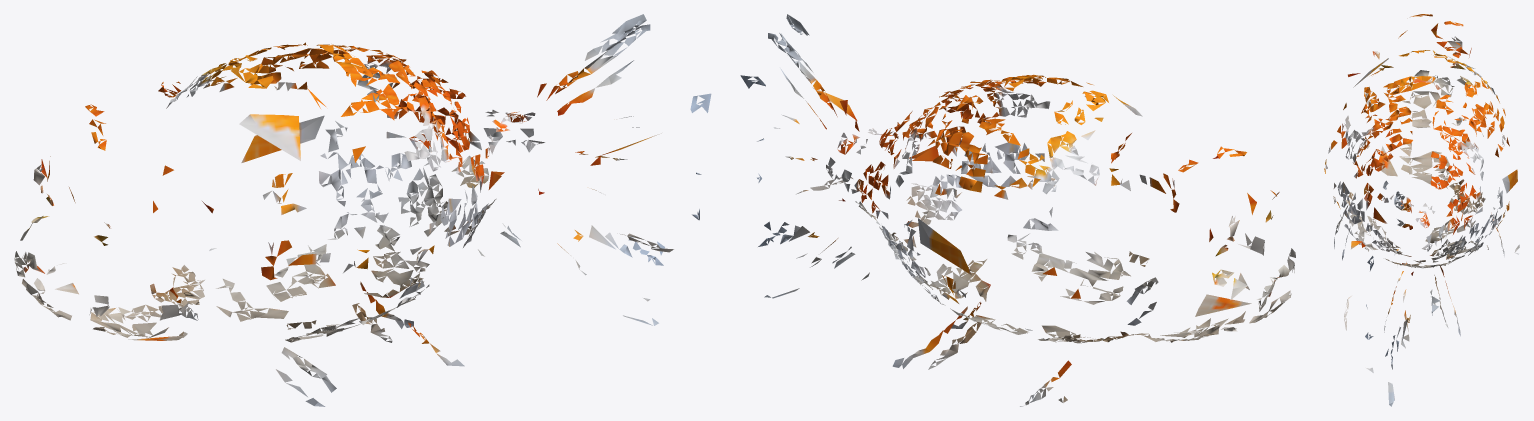
The model's file is fish_b.glb.
The picture shows the model from 3 angles, left to right: view 1: azimuth 30°, elevation 25°; view 2: azimuth 150°, elevation 25°; view 3: azimuth 270°, elevation 25°; orthographic projection. The views are drawn at different scales.
Parts seen in each view (by area): view 1: node_0; view 2: node_0; view 3: node_0.
Part boxes in pixels (x1,y1,x2,y2): node_0: (14,14,711,406); node_0: (740,14,1295,406); node_0: (1324,14,1519,406).
Bounding box in the file's own units: 1.09 × 0.5444 × 0.4194.
Materials: 1 (1 with a texture image).
